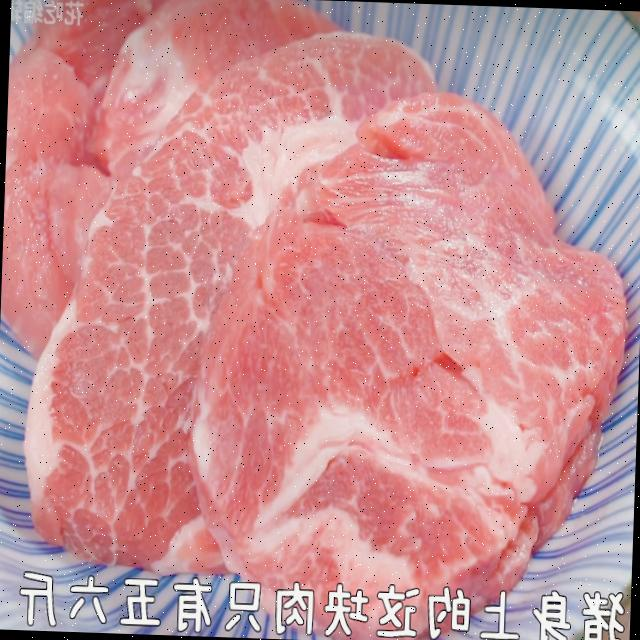meat: (198, 82, 618, 594), (24, 14, 411, 569), (0, 0, 298, 344)
